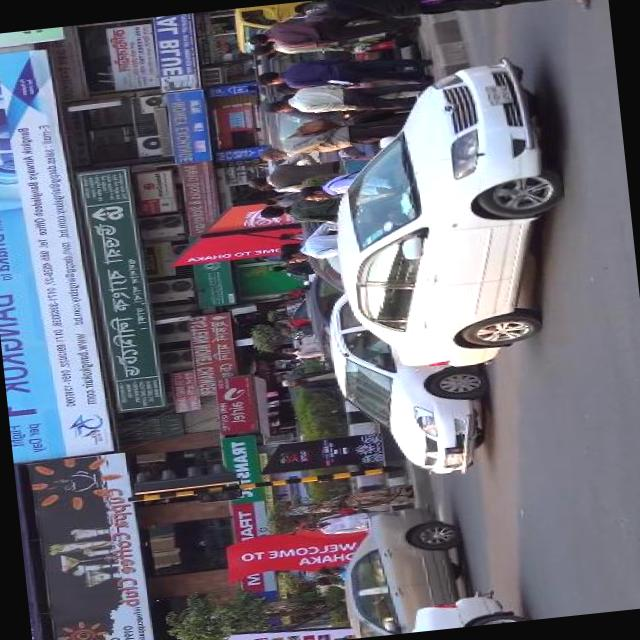car: (310, 47, 590, 380), (320, 274, 500, 492), (331, 493, 478, 635)
